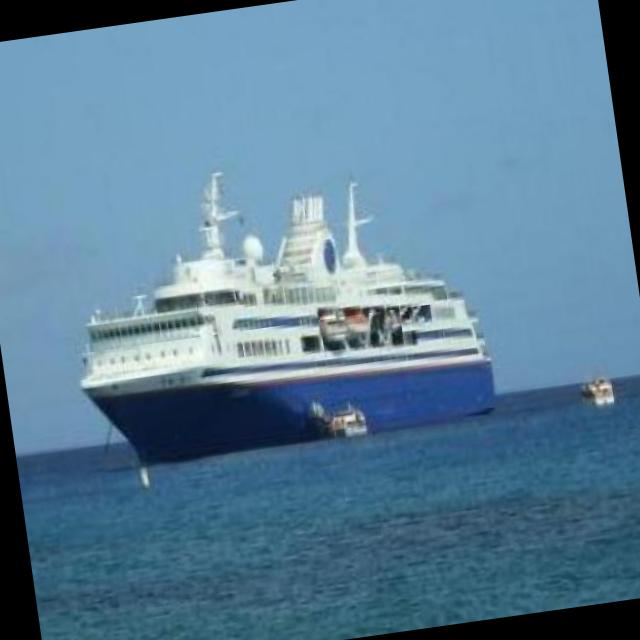boat: (38, 156, 516, 474)
